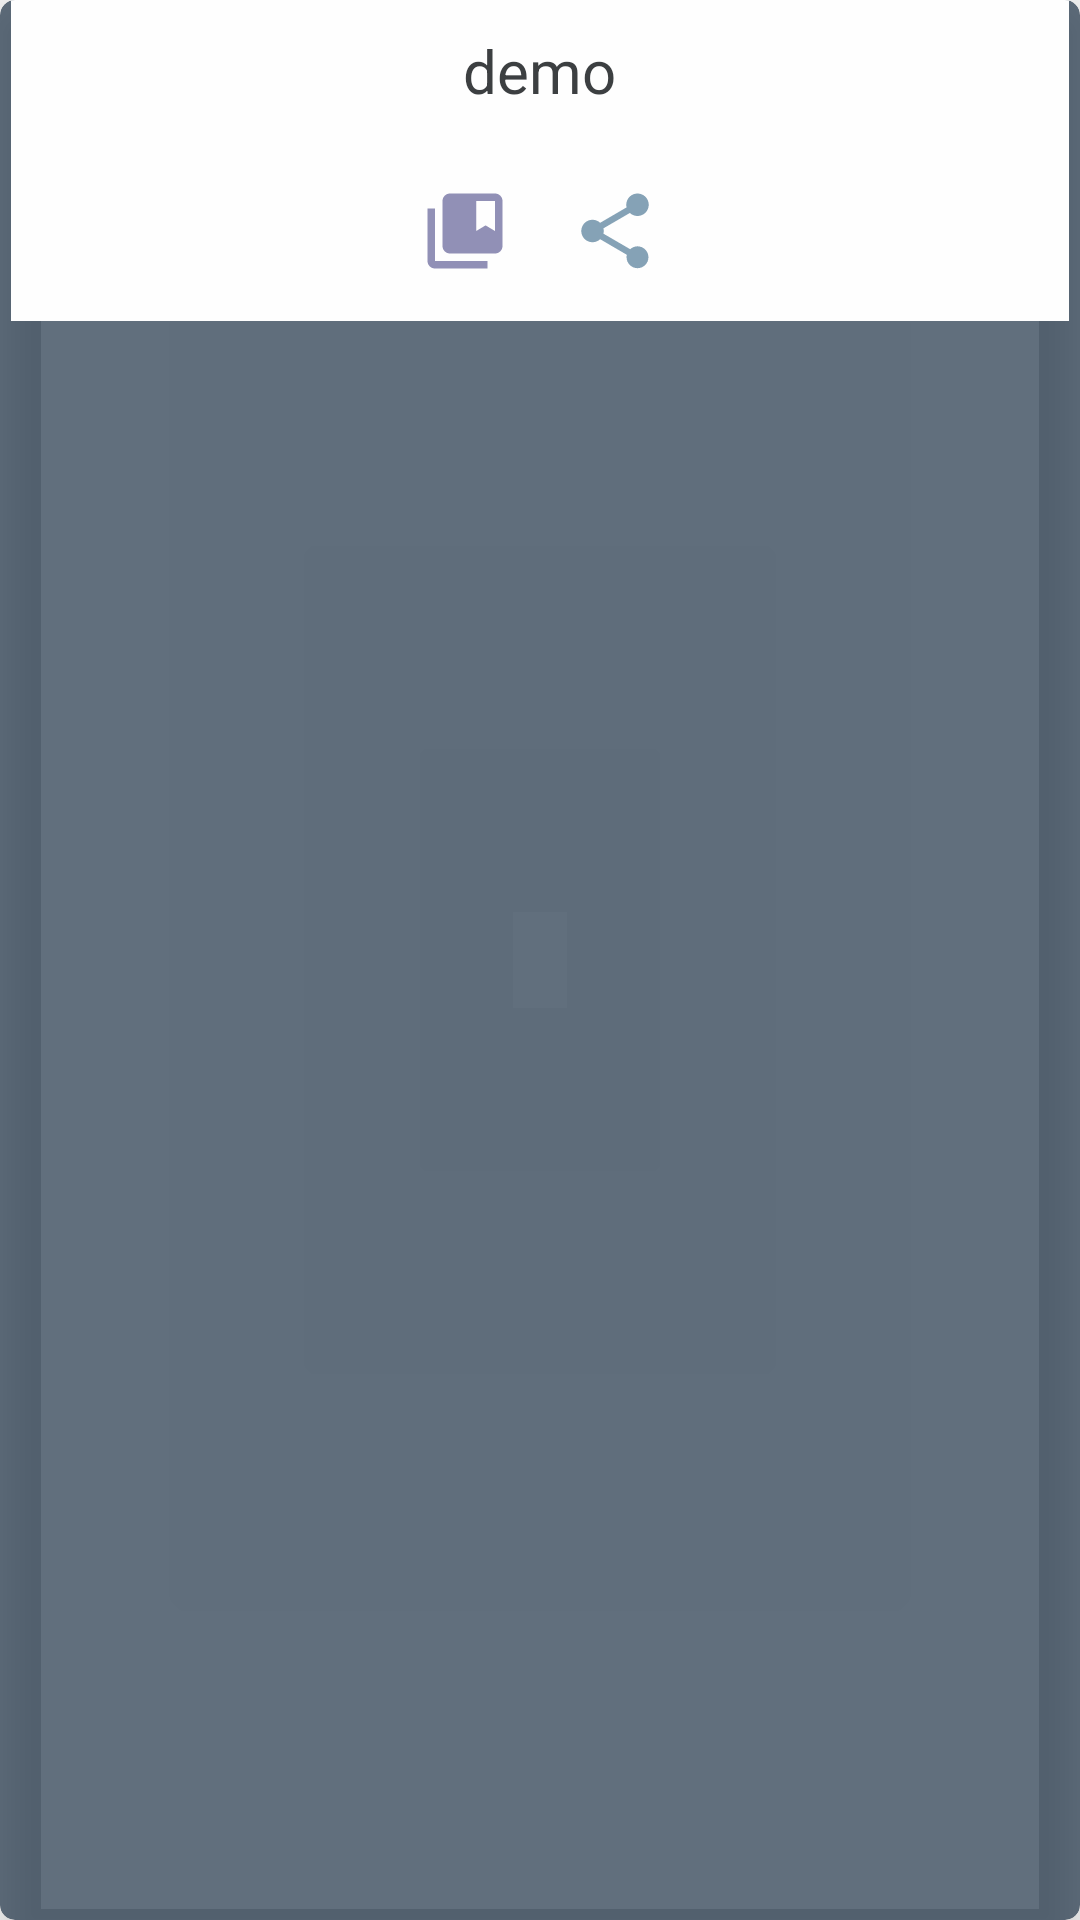

Where to tap for icons on this 1080px×1920px app screen, as point (x, y):
collections bookmark: point (465, 231)
share: point (615, 231)
